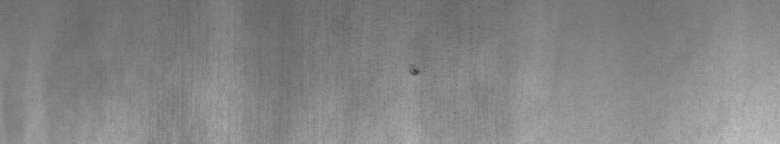fi: (409, 62, 425, 82)
